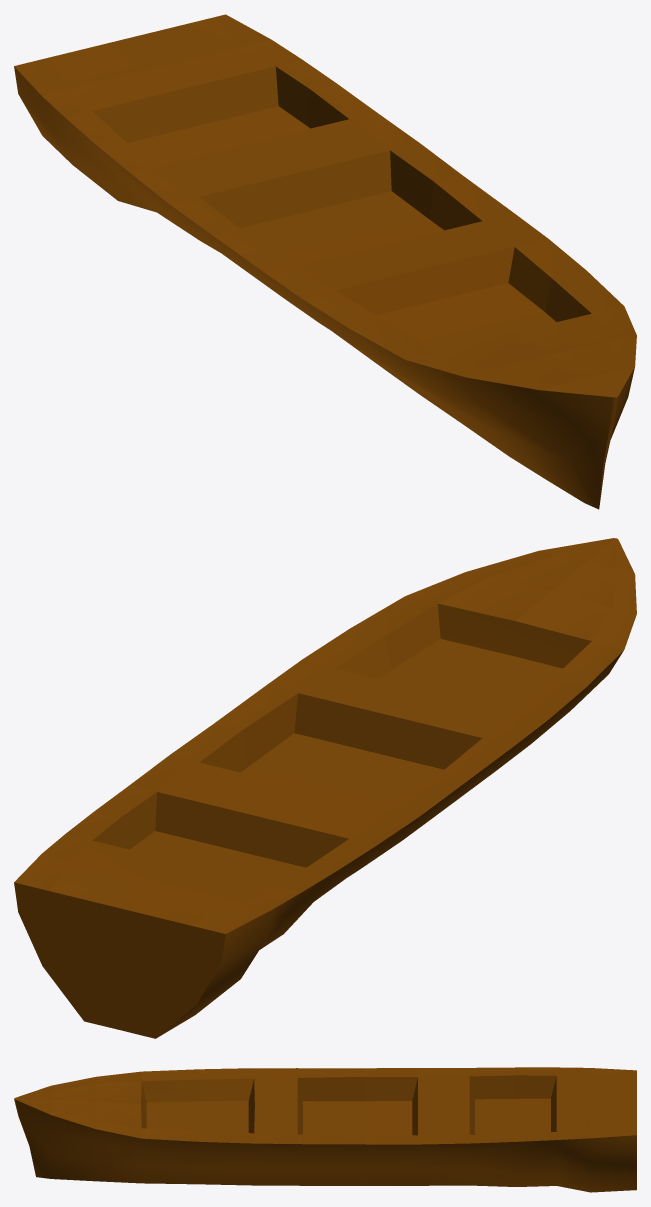
File: sandaal.fbx
3 views of the same model, one above another, from view 1: azimuth 30°, elevation 25°; view 2: azimuth 150°, elevation 25°; view 3: azimuth 270°, elevation 25° (orthographic). The views are drawn at different scales.
Visible parts, largest first — view 1: sandal; view 2: sandal; view 3: sandal.
Part boxes in pixels (bbox=[...]): sandal: bbox=[14, 14, 636, 509]; sandal: bbox=[14, 538, 636, 1038]; sandal: bbox=[14, 1067, 636, 1192].
Bounding box in the file's own units: 923 × 480 × 3168.
